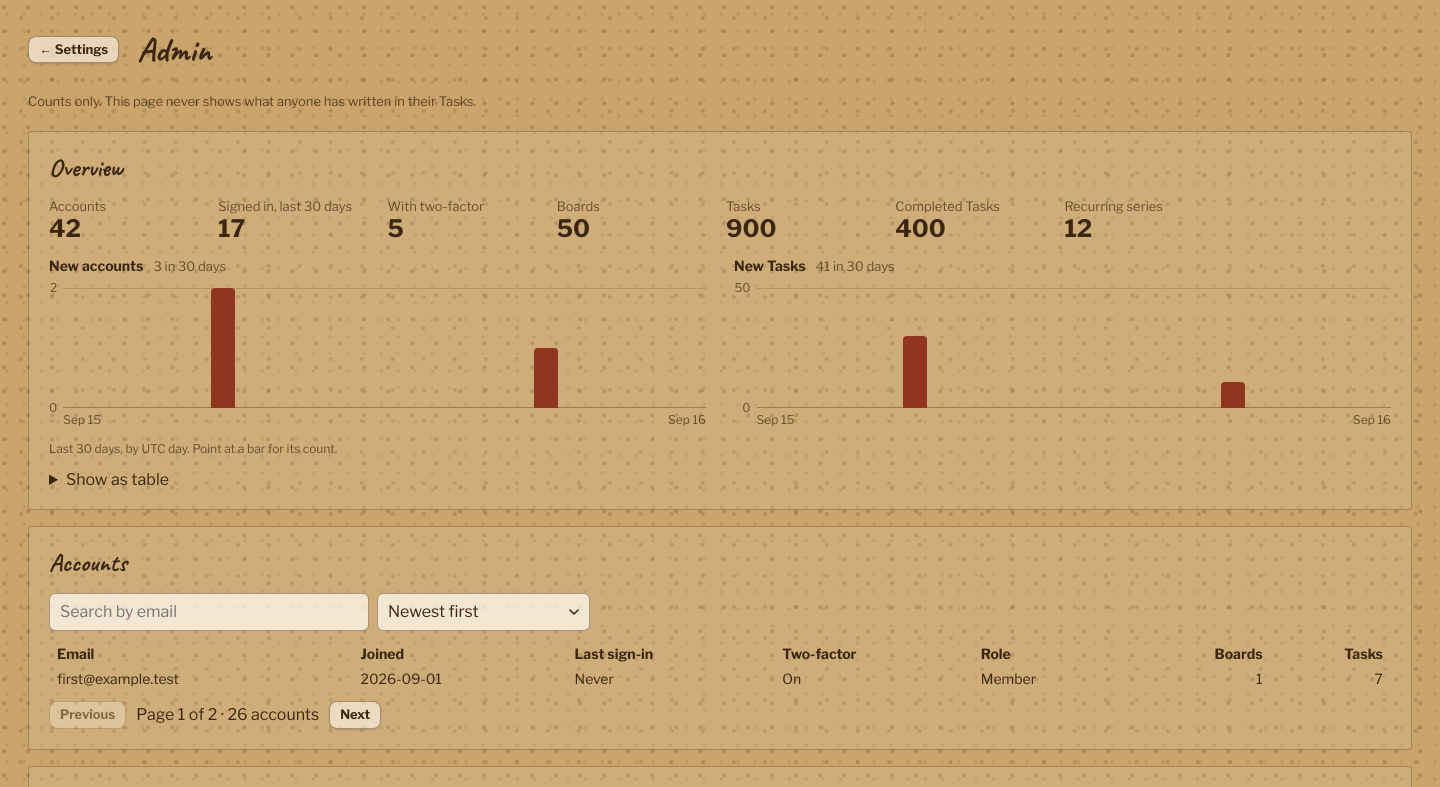
Scenario: searching waits for typing to pause, starts from the first page, and keeps focus (#471)
This screenshot has width=1440, height=787.
Click the button "Next" at (355, 715), box [329,701,381,729]
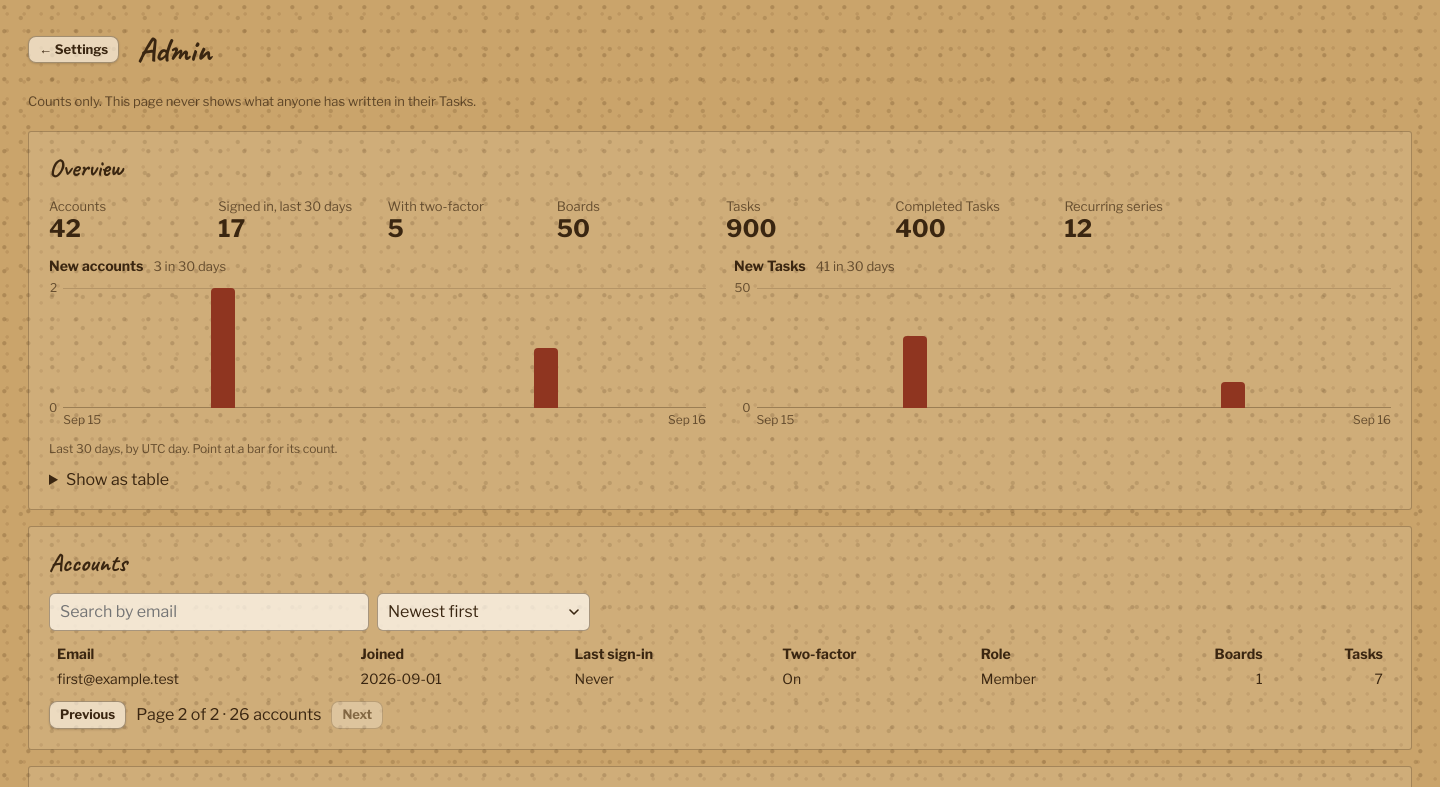
Type "ada" into the search field named "Search accounts by email" at (209, 612), box [49,593,369,631]
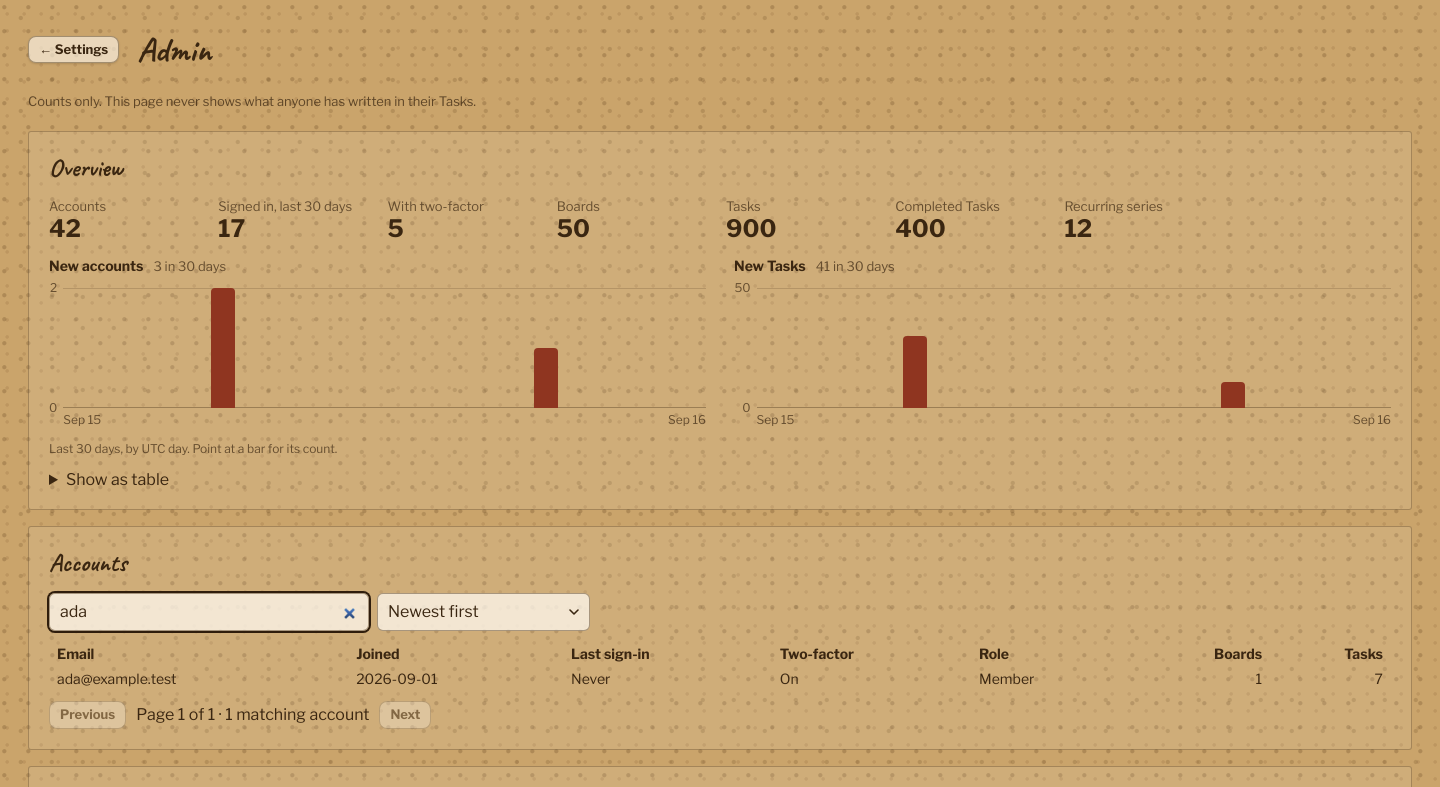
Result: the text "ada@example.test" is shown at [49,666,348,691]
Result: the text "Page 1 of 1 · 1 matching account" is shown at [136,705,370,724]
